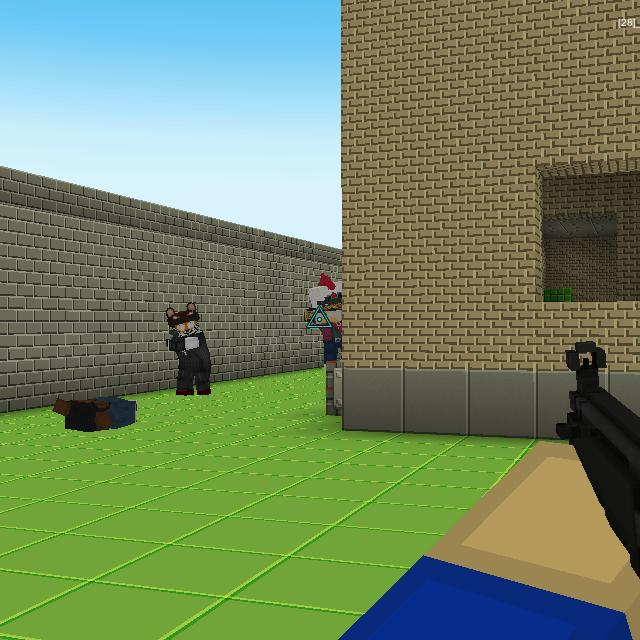enemy: (307, 273, 342, 417), (166, 303, 211, 397)
